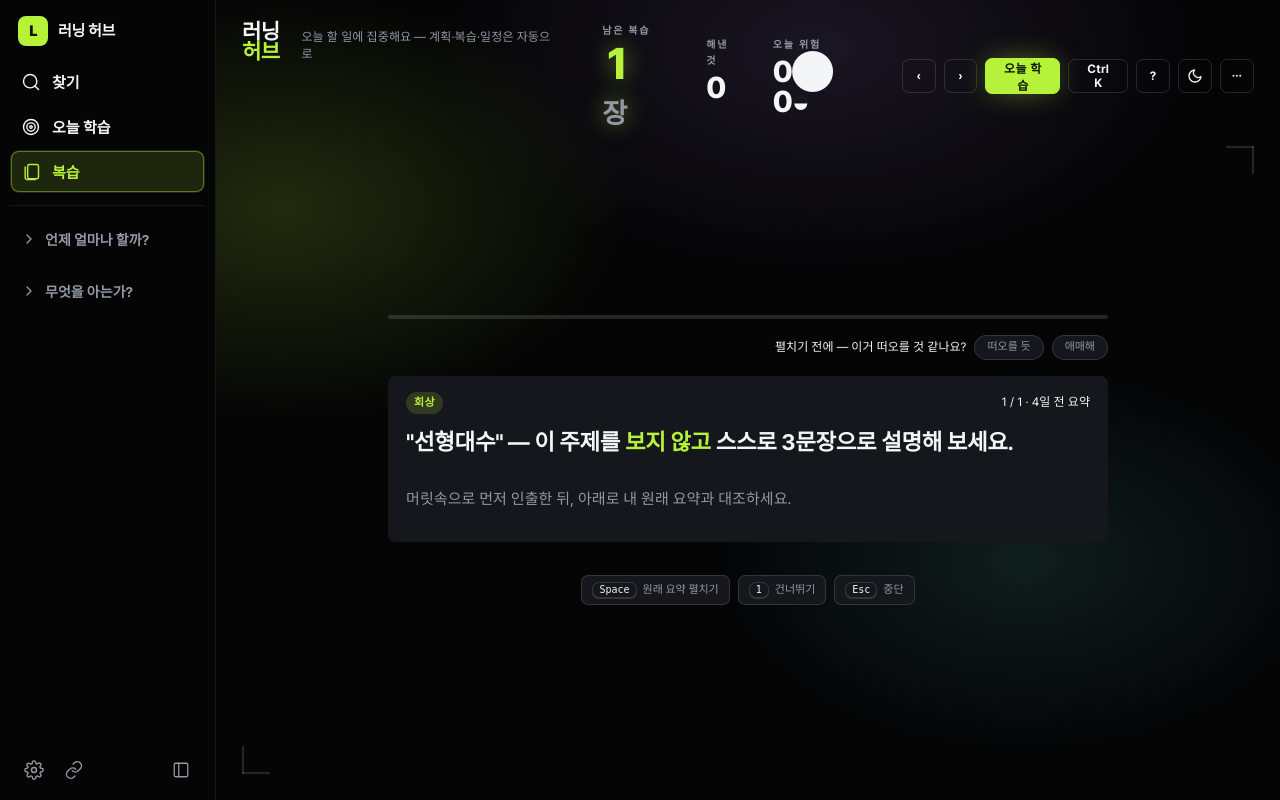
Test: review-run: 예측이 맞았으면 과신 항목이 안 뜬다 — 성공에 마찰을 걸지 않는다
Check: the text "회상" is shown, box 406,392 -> 443,414
Click the button "떠오를 듯" at (1009, 347), box 974,335 -> 1044,360
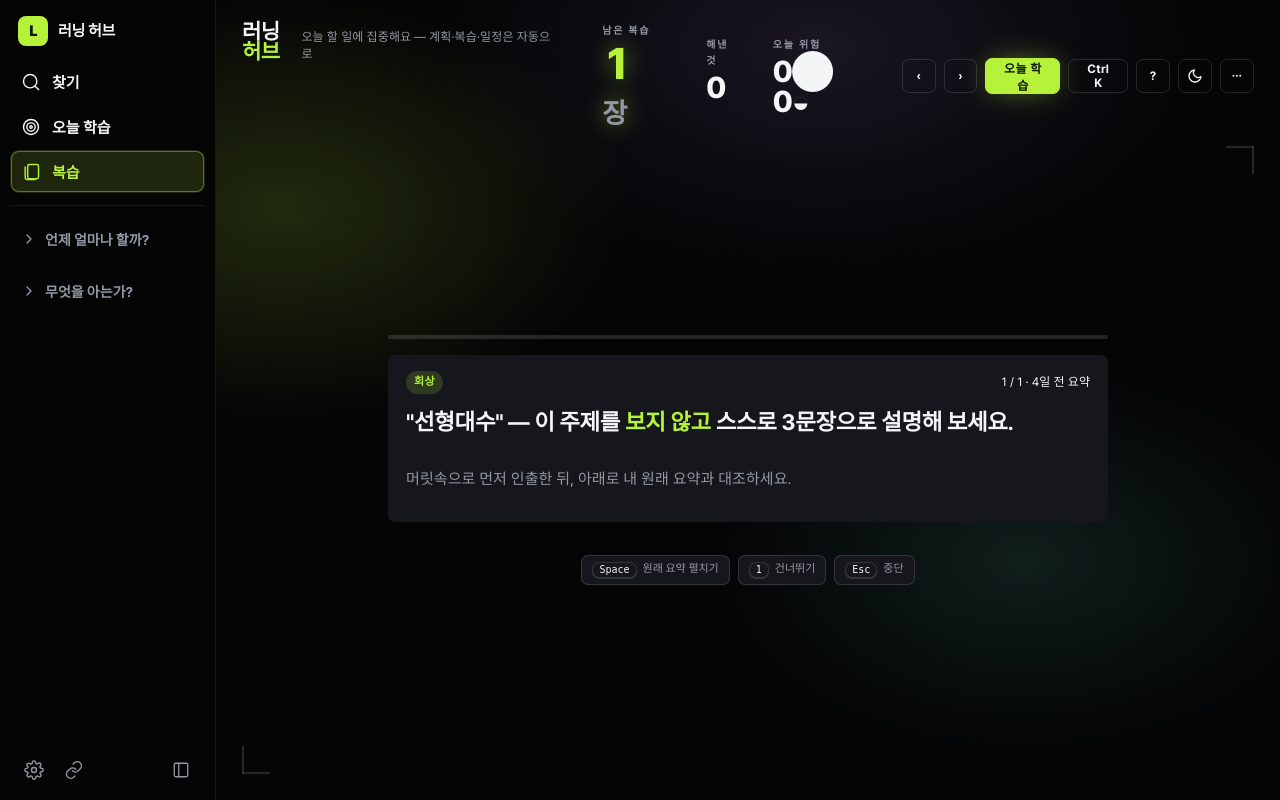
Press Space
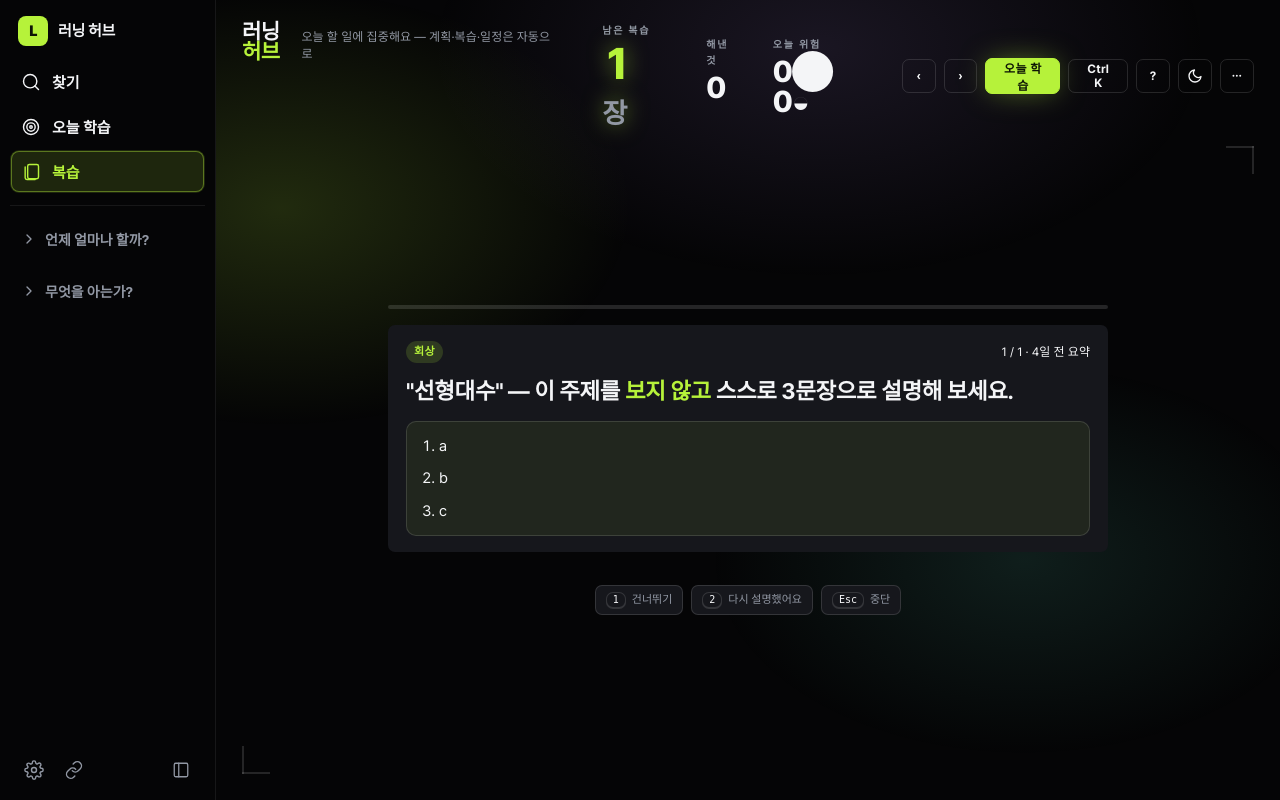
Press 2
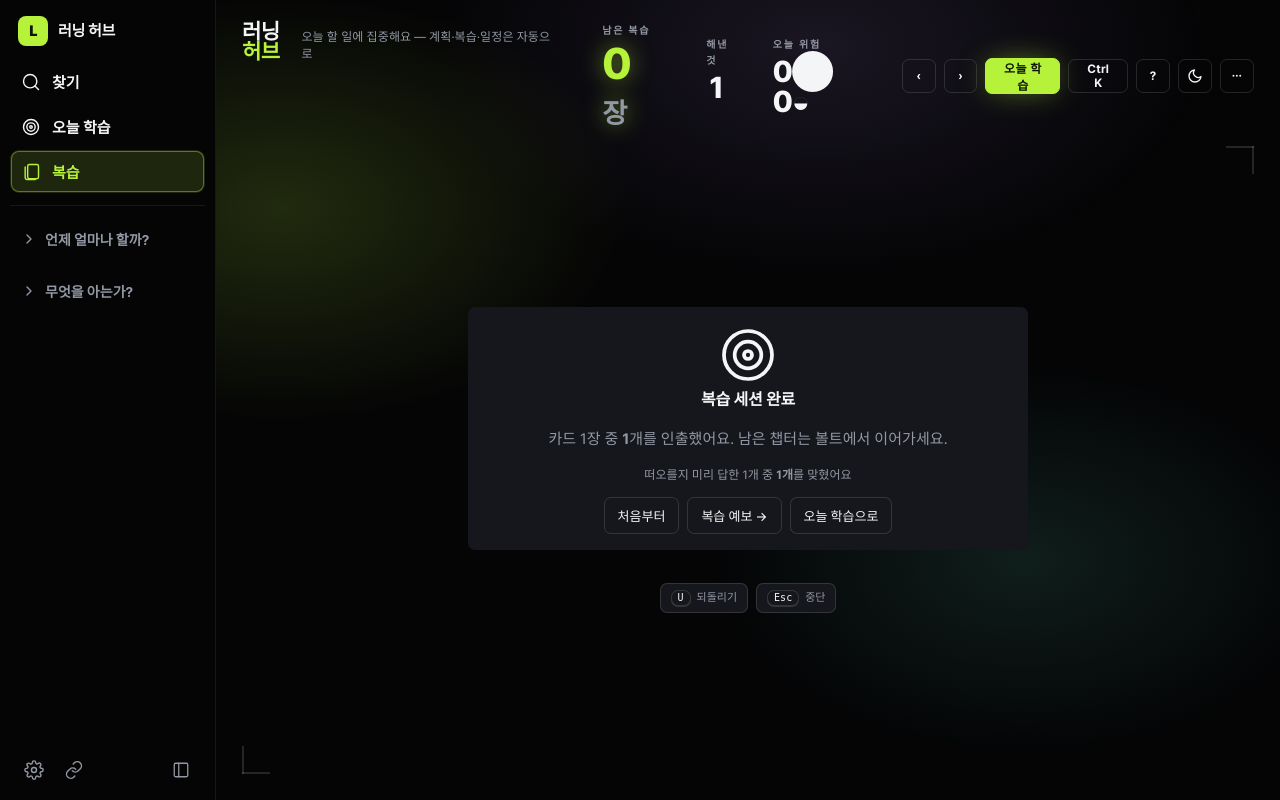
Check: the heading "복습 세션 완료" is shown, box 701,390 -> 795,409
